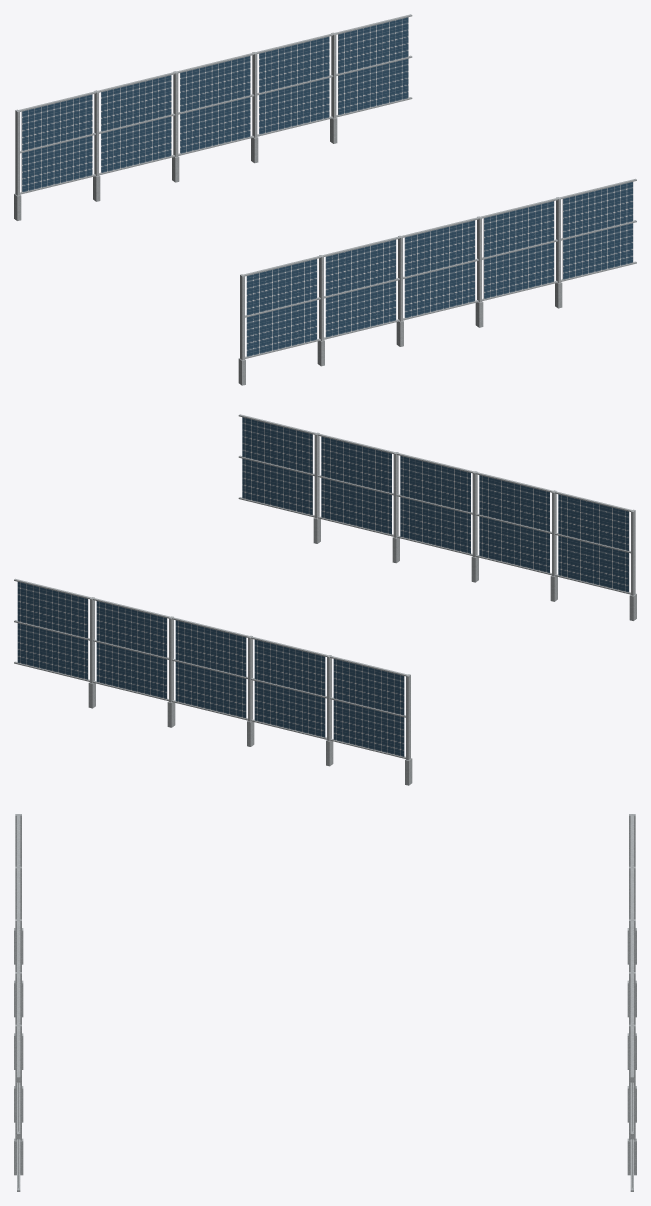
The model's file is PV_field_row_10x10.glb.
The picture shows the model from 3 angles, top to bottom: view 1: azimuth 30°, elevation 25°; view 2: azimuth 150°, elevation 25°; view 3: azimuth 270°, elevation 25°; orthographic projection. The views are drawn at different scales.
Visible parts, largest first — view 1: instance_3, instance_3.003, instance_3.006, instance_2.006, instance_2, instance_2.003, instance_3.024, instance_2.015, instance_2.018, instance_3.009, instance_3.018, instance_3.021 (+8 smaller); view 2: instance_3.016, instance_3.019, instance_3.022, instance_2.022, instance_2.016, instance_2.019, instance_3.013, instance_2.001, instance_2.004, instance_3.004, instance_3.007, instance_2.010 (+8 smaller); view 3: no part large enough to name.
Part boxes in pixels (<box>): instance_3: <box>246,300,317,356</box>; instance_3.003: <box>325,281,396,337</box>; instance_3.006: <box>404,261,475,318</box>; instance_2.006: <box>404,220,475,276</box>; instance_2: <box>246,259,317,315</box>; instance_2.003: <box>325,239,396,296</box>; instance_3.024: <box>338,58,408,115</box>; instance_2.015: <box>22,94,92,150</box>; instance_2.018: <box>101,75,171,131</box>; instance_3.009: <box>484,242,554,298</box>; instance_3.018: <box>101,116,171,173</box>; instance_3.021: <box>180,97,250,153</box>; instance_3.016: <box>333,700,404,756</box>; instance_3.019: <box>254,681,325,737</box>; instance_3.022: <box>175,661,246,718</box>; instance_2.022: <box>175,620,246,676</box>; instance_2.016: <box>333,659,404,715</box>; instance_2.019: <box>254,639,325,696</box>; instance_3.013: <box>242,458,312,515</box>; instance_2.001: <box>558,494,628,550</box>; instance_2.004: <box>479,475,549,531</box>; instance_3.004: <box>479,516,549,573</box>; instance_3.007: <box>400,497,470,553</box>; instance_2.010: <box>321,436,391,493</box>.
Bounding box in the file's own units: 10.02 × 2.63 × 10.
2 materials, 2 textured.
